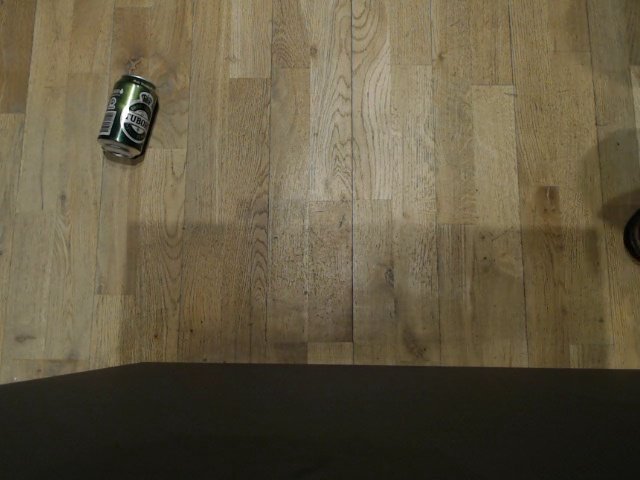beer: (140, 318, 236, 364), (450, 325, 540, 371), (396, 0, 454, 43)
cola: (501, 190, 560, 273), (558, 195, 609, 276)
